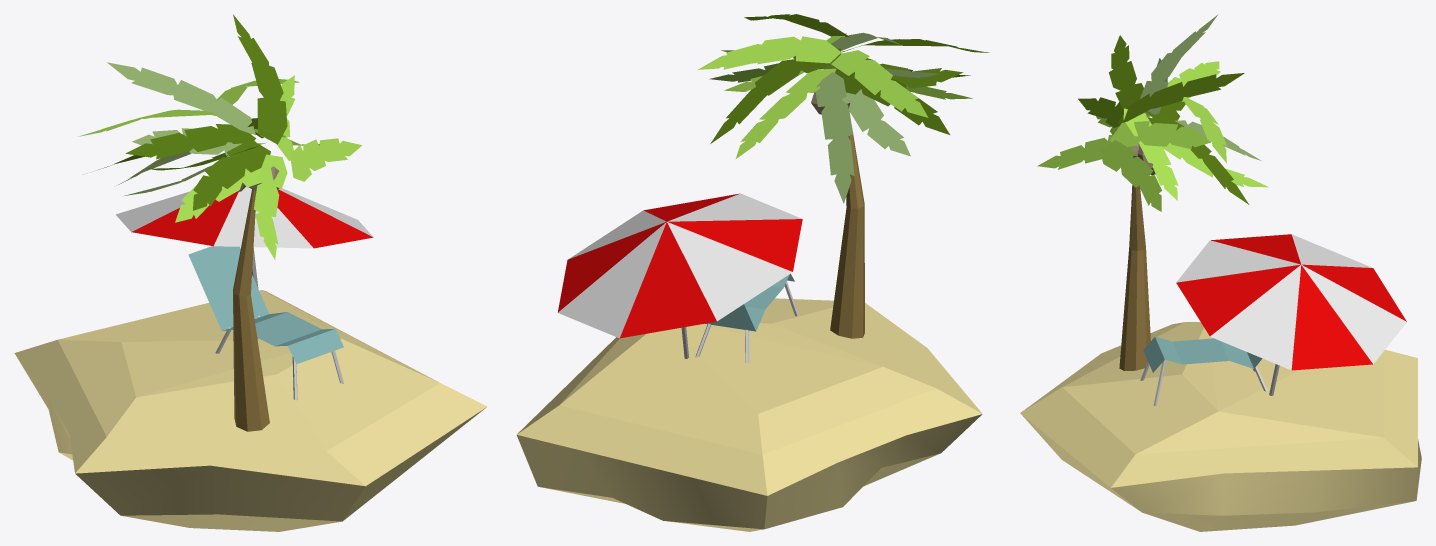
Rendered from island4_leaf.fbx.
3 renders of one model, left to right at view 1: azimuth 30°, elevation 25°; view 2: azimuth 150°, elevation 25°; view 3: azimuth 270°, elevation 25°, orthographic. The views are drawn at different scales.
Visible parts, largest first — view 1: island4_land, island4_umbrella_head, polySurface1 (×3), island4_chair_body, polySurface4 (×4), pCone2, polySurface2 (×3); view 2: island4_land, island4_umbrella_head, polySurface1 (×5), polySurface4 (×3), pCone2, polySurface2 (×2), island4_chair_body; view 3: island4_land, island4_umbrella_head, polySurface1 (×4), polySurface4 (×5), polySurface2 (×3), pCone2, island4_chair_body.
Boxes of the visible parts, x1,y1,x2,y2 form: island4_land: [14, 290, 487, 531]; island4_umbrella_head: [115, 186, 373, 248]; polySurface1 (×3): [107, 14, 287, 159]; island4_chair_body: [188, 246, 343, 364]; polySurface4 (×4): [77, 109, 361, 259]; pCone2: [233, 187, 269, 431]; polySurface2 (×3): [132, 75, 295, 210]; island4_land: [516, 298, 982, 531]; island4_umbrella_head: [557, 193, 802, 338]; polySurface1 (×5): [710, 14, 989, 203]; polySurface4 (×3): [698, 36, 928, 158]; pCone2: [830, 111, 864, 338]; polySurface2 (×2): [841, 58, 963, 156]; island4_chair_body: [705, 273, 794, 331]; island4_land: [1020, 322, 1421, 531]; island4_umbrella_head: [1176, 234, 1406, 370]; polySurface1 (×4): [1109, 14, 1249, 204]; polySurface4 (×5): [1037, 61, 1268, 211]; polySurface2 (×3): [1078, 97, 1210, 200]; pCone2: [1119, 185, 1150, 370]; island4_chair_body: [1143, 336, 1262, 372].
Bounding box in the file's own units: 16.4 × 20.27 × 17.02.
